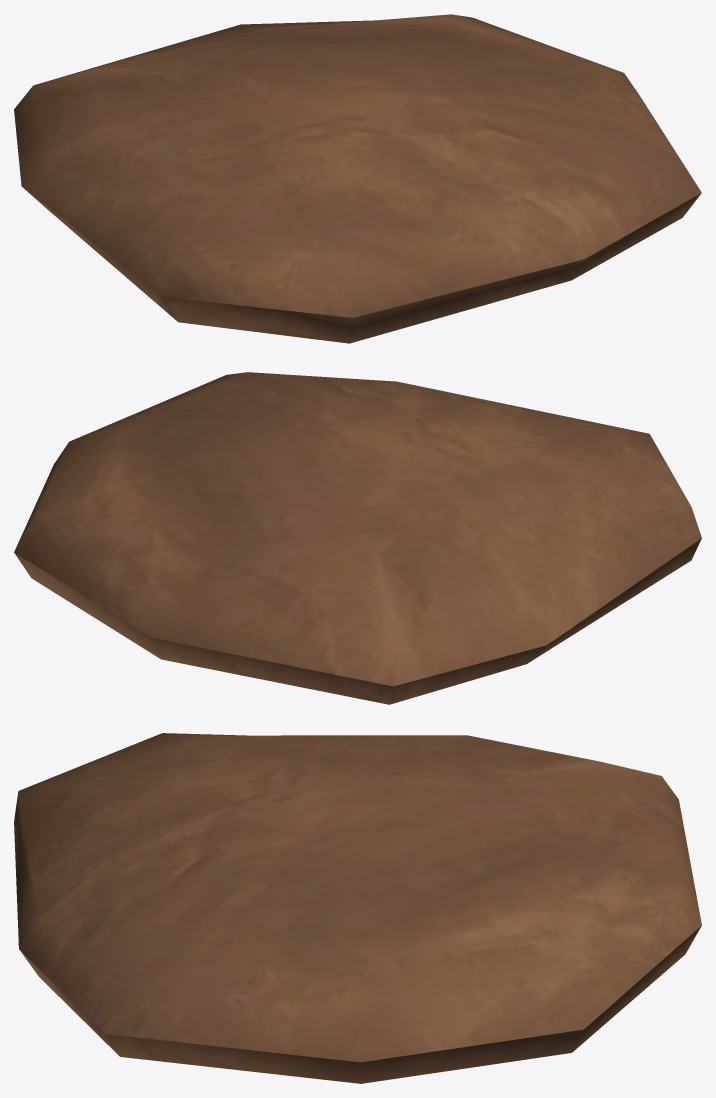
The model's file is stone01.glb.
3 renders of one model, top to bottom at view 1: azimuth 30°, elevation 25°; view 2: azimuth 150°, elevation 25°; view 3: azimuth 270°, elevation 25°, orthographic. The views are drawn at different scales.
Visible parts, largest first — view 1: Stone01; view 2: Stone01; view 3: Stone01.
Boxes of the visible parts, x1,y1,x2,y2 form: Stone01: [14, 14, 701, 343]; Stone01: [14, 372, 701, 704]; Stone01: [14, 733, 701, 1083].
Bounding box in the file's own units: 2.23 × 0.6387 × 2.12.
1 material, 1 textured.
